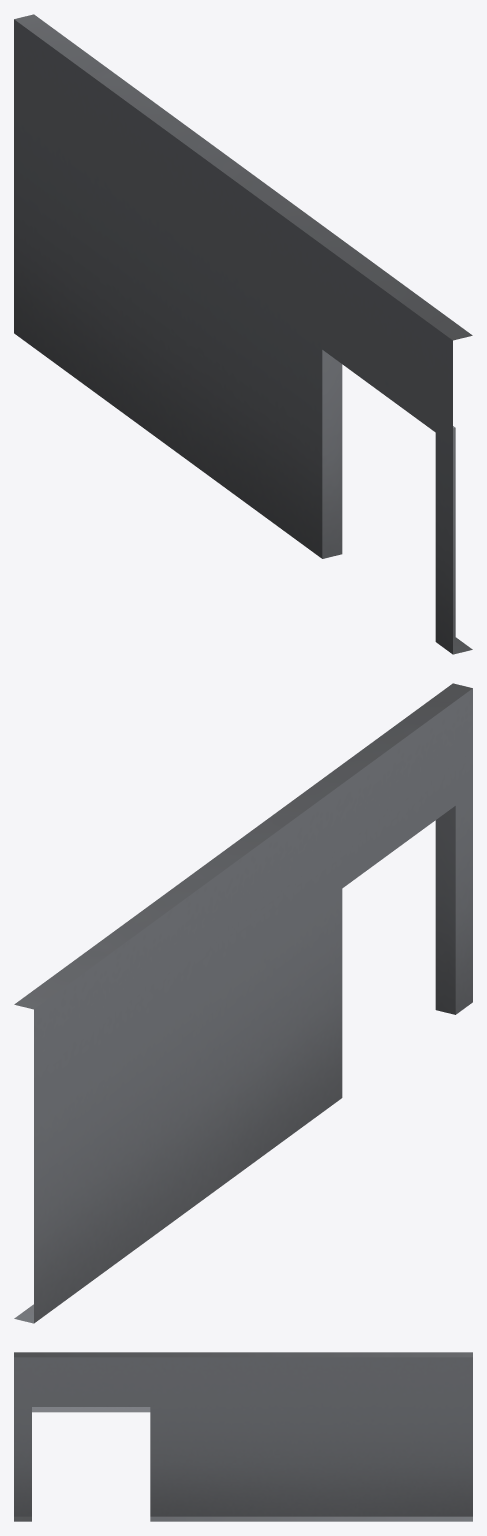
The model's file is BgMD_Tanihira_SystemWall_front_0101.fbx.
3 renders of one model, top to bottom at view 1: azimuth 30°, elevation 25°; view 2: azimuth 150°, elevation 25°; view 3: azimuth 270°, elevation 25°, orthographic. The views are drawn at different scales.
Visible parts, largest first — view 1: polySurface37; view 2: polySurface37; view 3: polySurface37.
Boxes of the visible parts, bbox=[...] form: polySurface37: bbox=[14, 14, 472, 654]; polySurface37: bbox=[14, 683, 472, 1323]; polySurface37: bbox=[14, 1352, 472, 1521].
Bounding box in the file's own units: 20 × 300 × 760.
